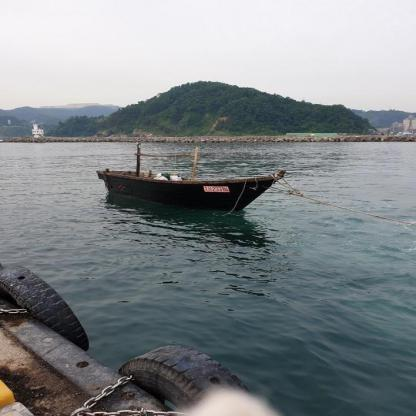fish-b: (88, 140, 296, 221)
